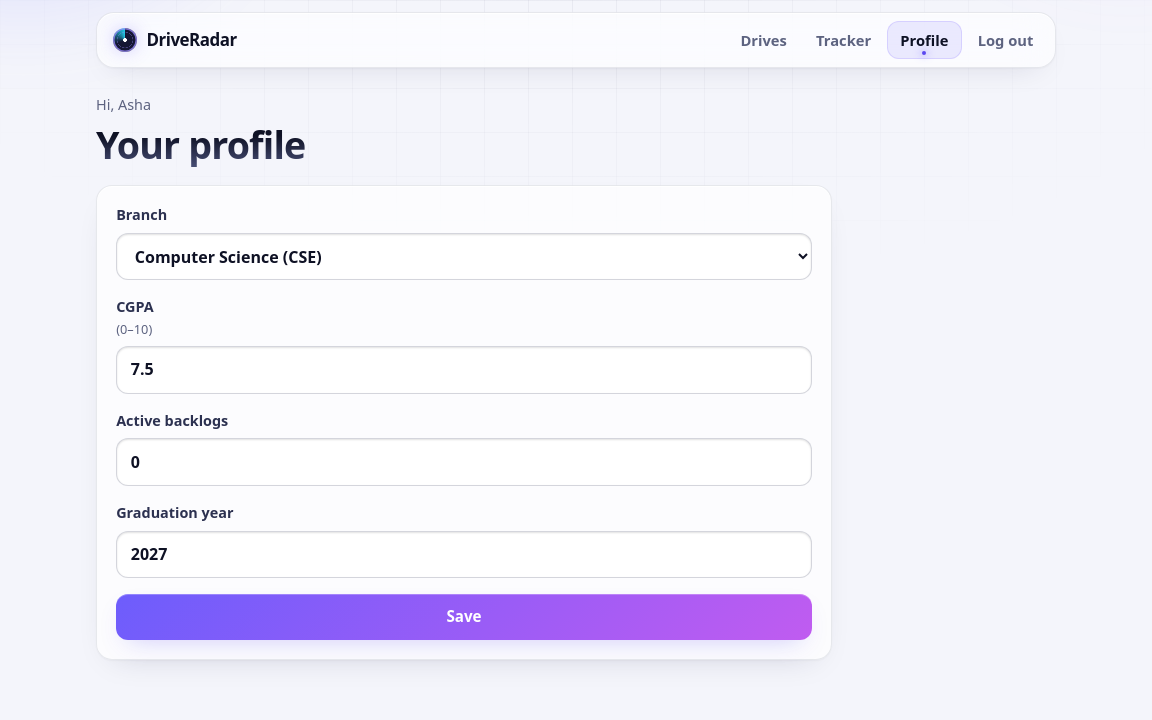
Test: profile › shows the server's validation message
Expected: the number field labelled "CGPA (0–10)" is shown, x1=116 y1=346 x2=812 y2=394
Expected: the dropdown labelled "Branch" shows "Computer Science (CSE)", x1=116 y1=233 x2=812 y2=280
Click the button "Save".
click(464, 617)  # box x1=116 y1=594 x2=812 y2=640
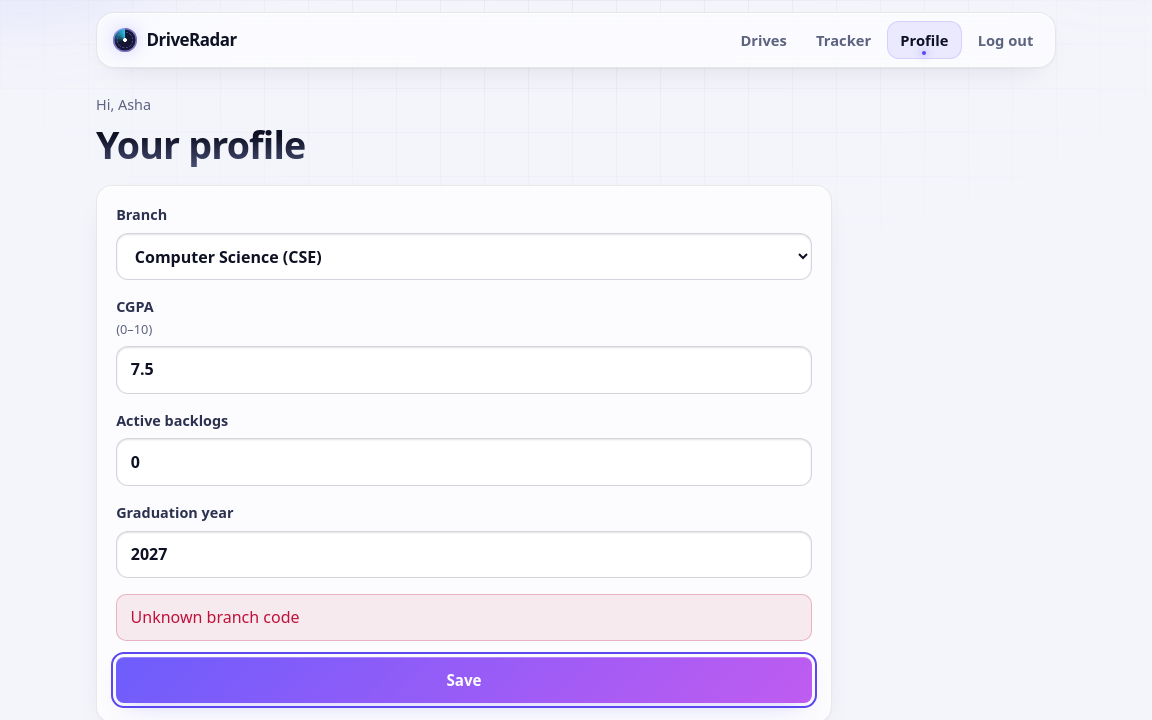
Expected: the message reads "Unknown branch code", x1=131 y1=606 x2=300 y2=628
